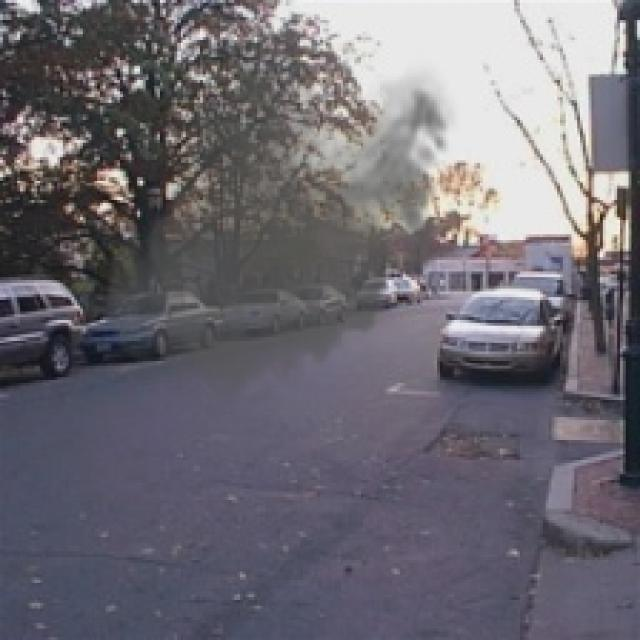smoke: (97, 49, 460, 417)
